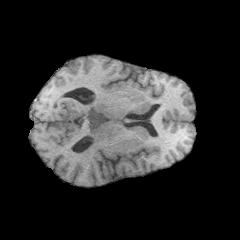glioma: (78, 103, 118, 148)
